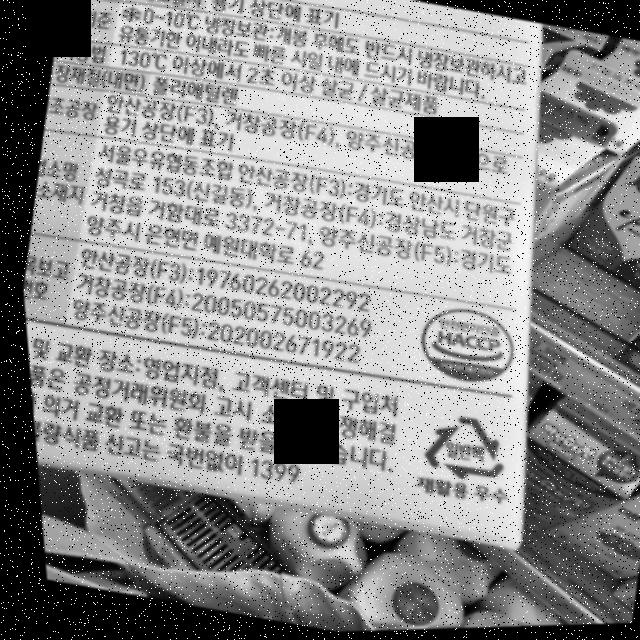NormalPack: (404, 404, 507, 492)
